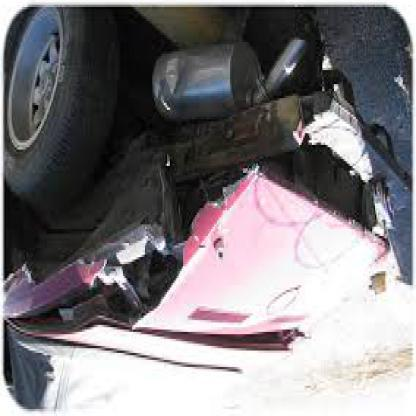dent: (154, 136, 270, 218), (82, 250, 176, 327), (162, 52, 188, 108)
